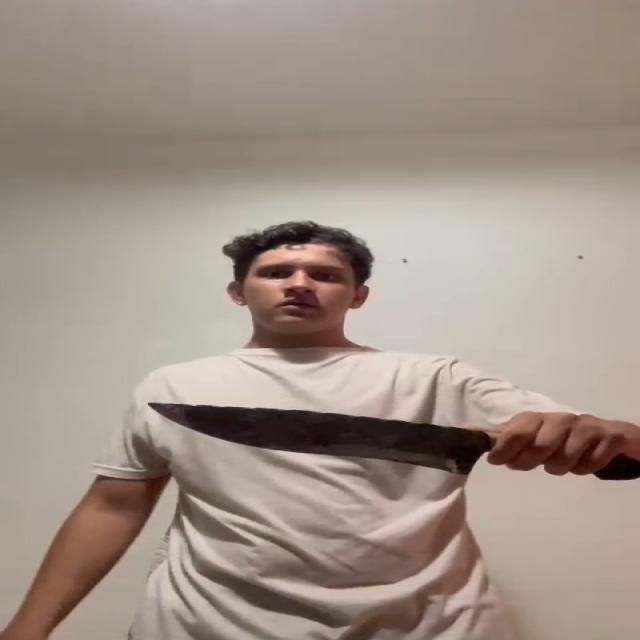knife: (148, 400, 484, 474)
